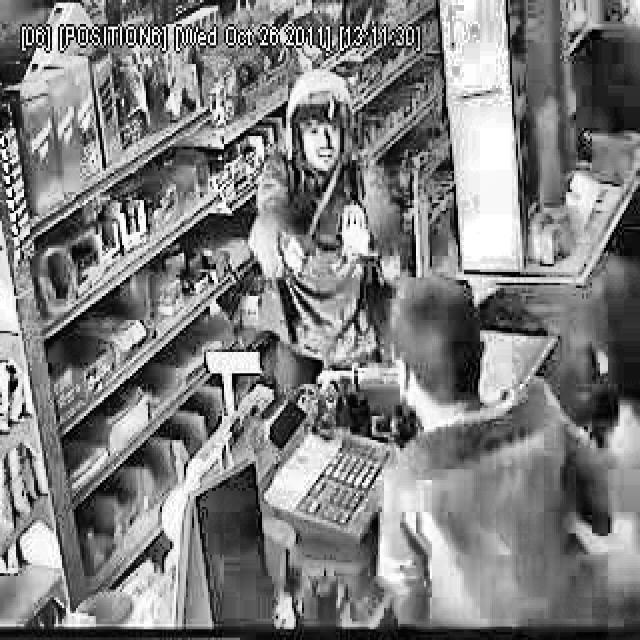robbery: (242, 66, 426, 418)
